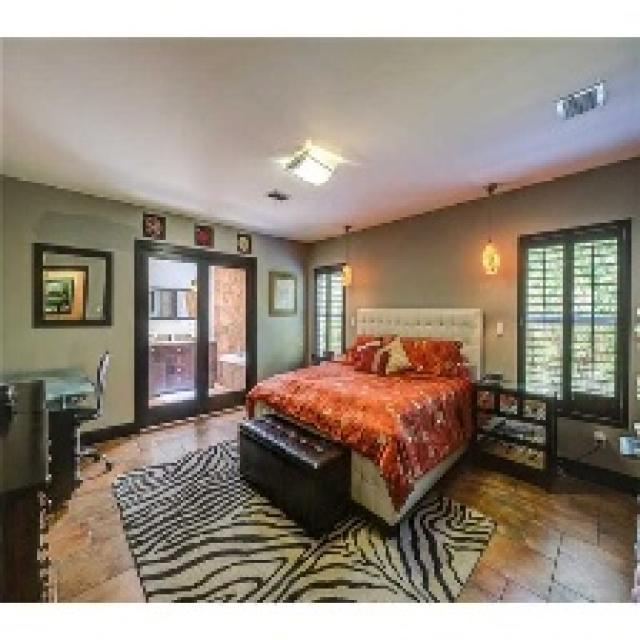bed: (240, 296, 503, 528)
mirror: (38, 238, 112, 334)
